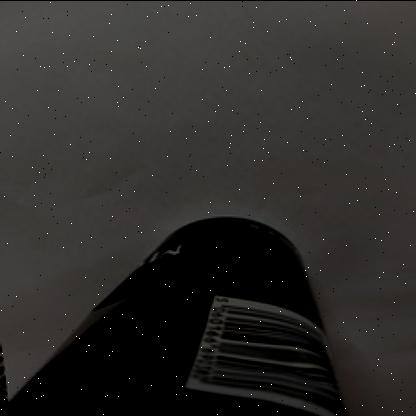Can: (0, 214, 340, 416)
